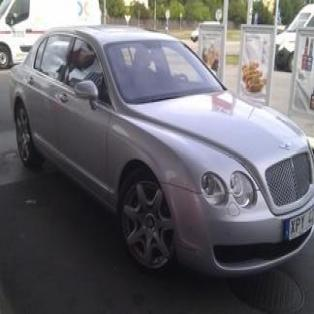Auto: (10, 21, 313, 286)
